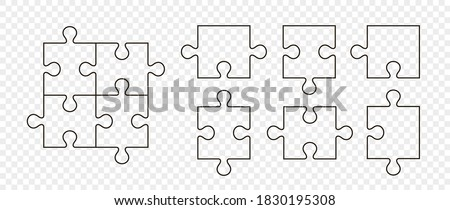puzzle piece: (170, 11, 274, 77)
